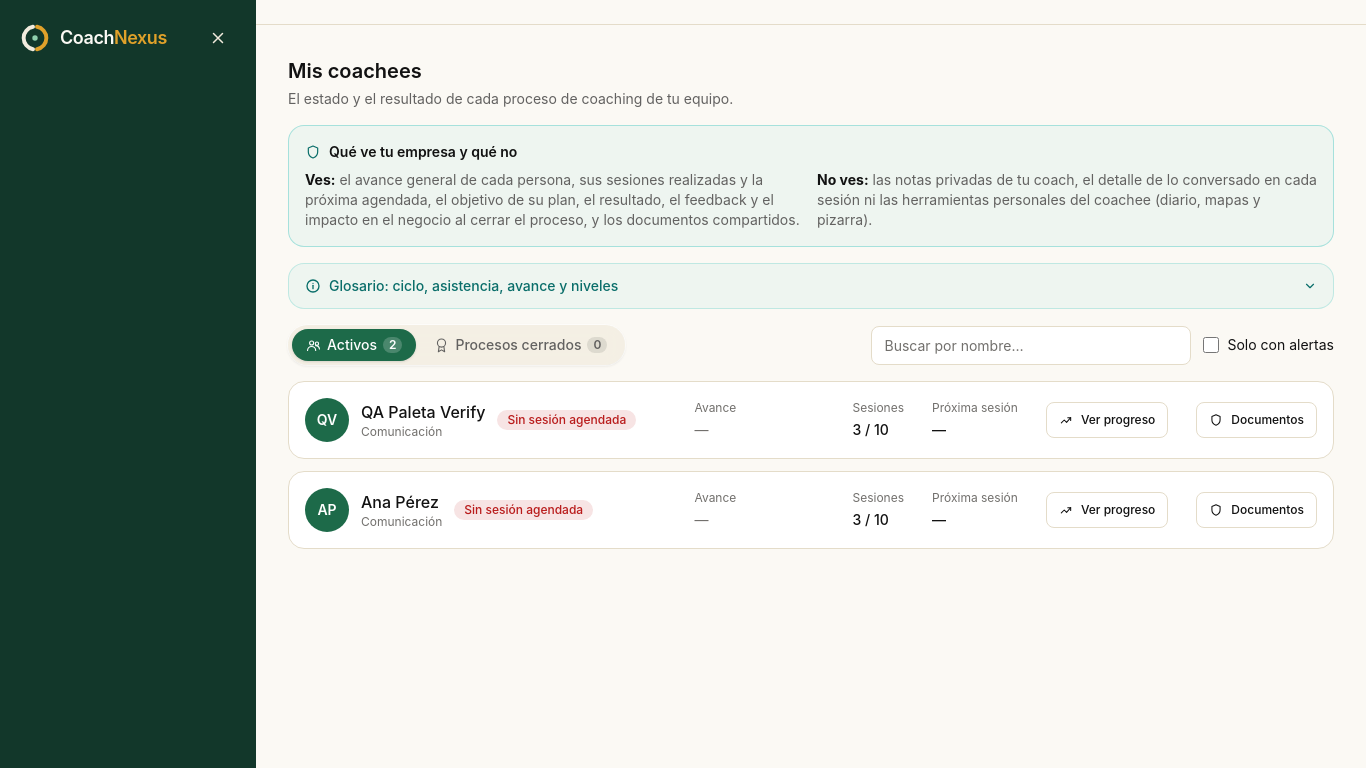
Test: CoacheesView (empresa) › filtra por nombre y muestra un estado vacío con opción de limpiar
This screenshot has width=1366, height=768.
Type "ana" into the search field with placeholder "Buscar por nombre…" at (1032,345), box [872,326,1192,364]
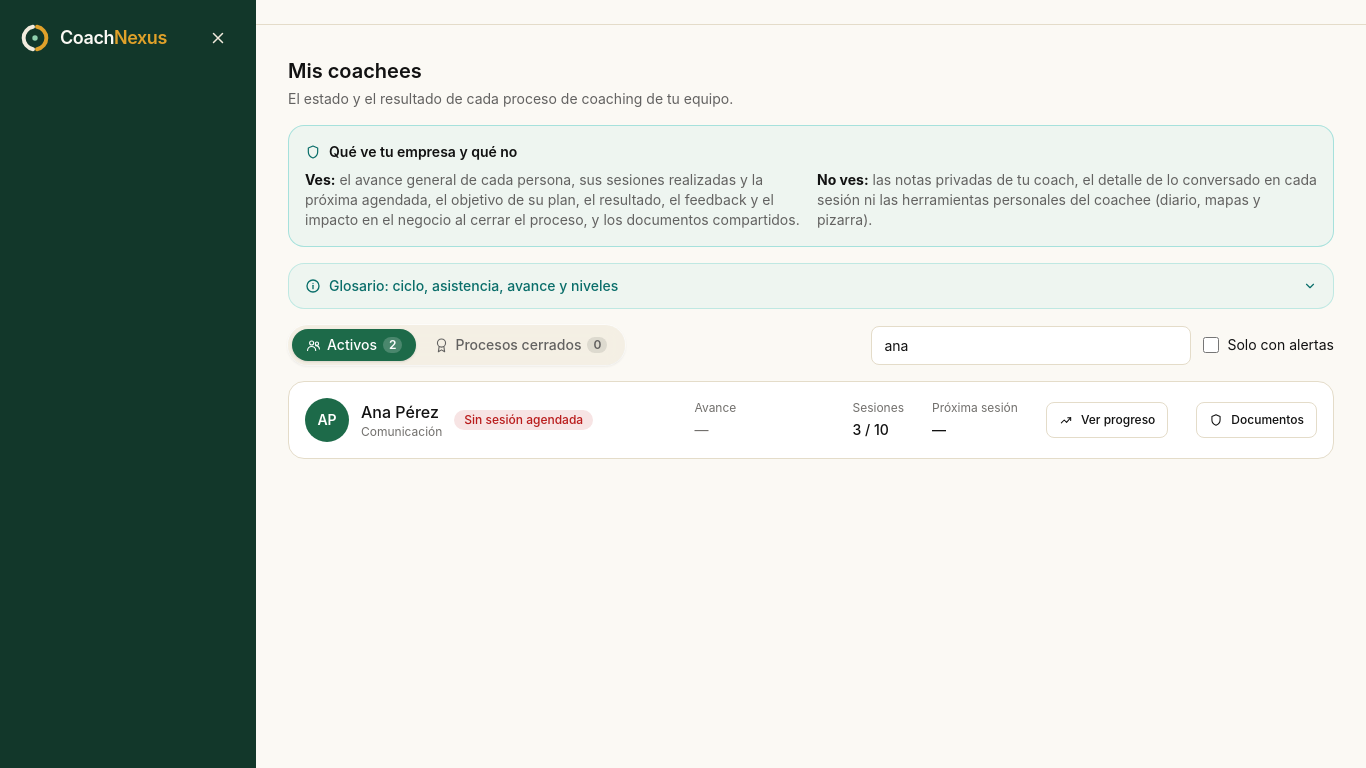
Check: the text "Ana Pérez" is shown, box [361,400,442,424]
Check: the text "QA Paleta Verify" is gone
Replace the text in the search field with "zzz" at (1032,345), box [872,326,1192,364]
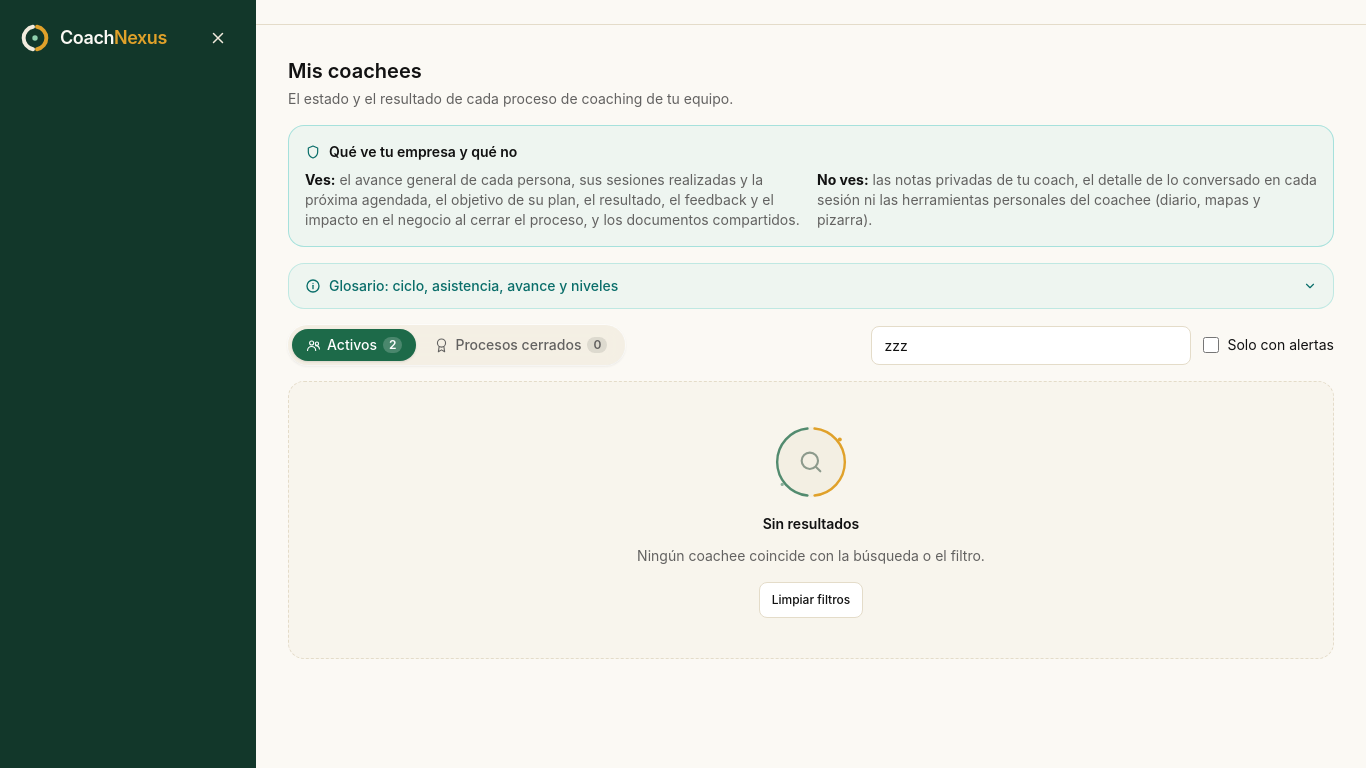
Check: the text "Sin resultados" is shown, box [763,514,859,534]
Click the button "Limpiar filtros" at (811,600), box [759,582,863,618]
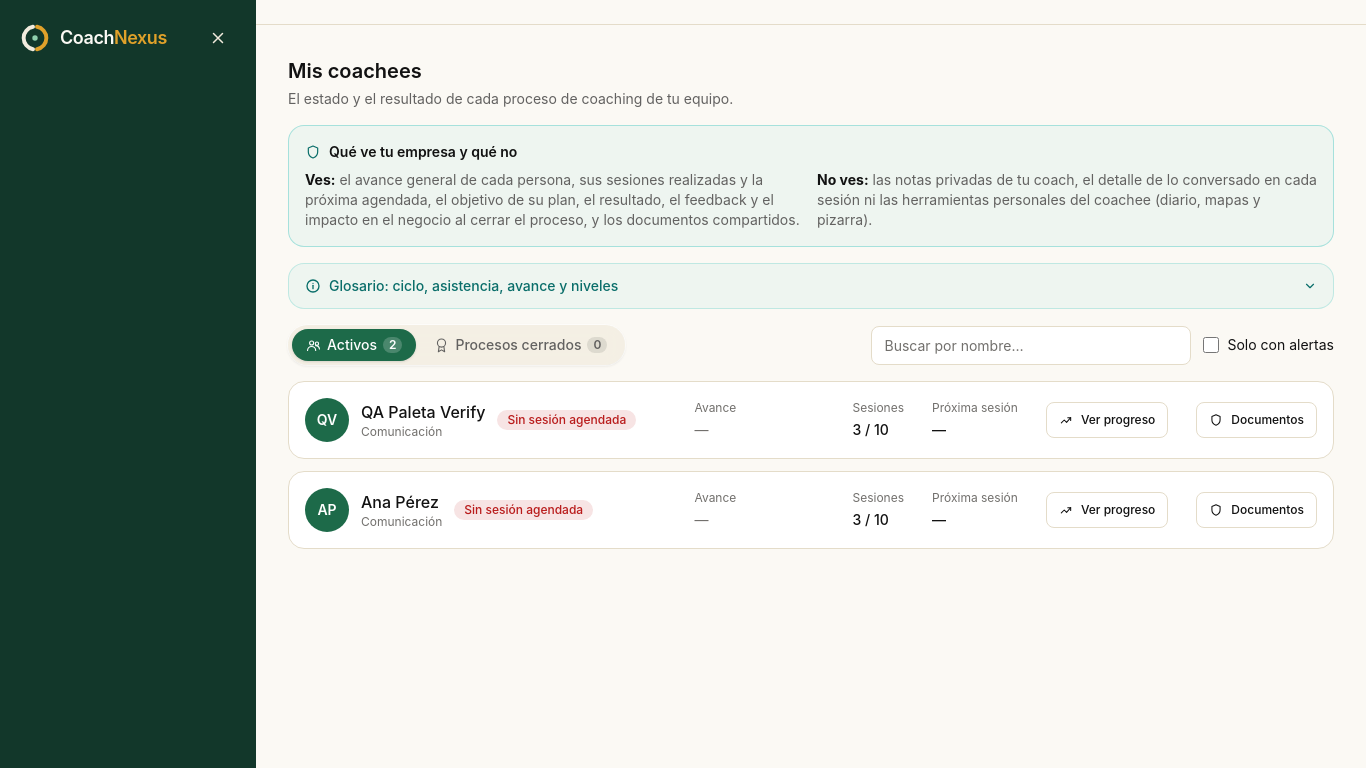
Check: the text "QA Paleta Verify" is shown, box [361,400,485,424]
Check: the text "Ana Pérez" is shown, box [361,490,442,514]
